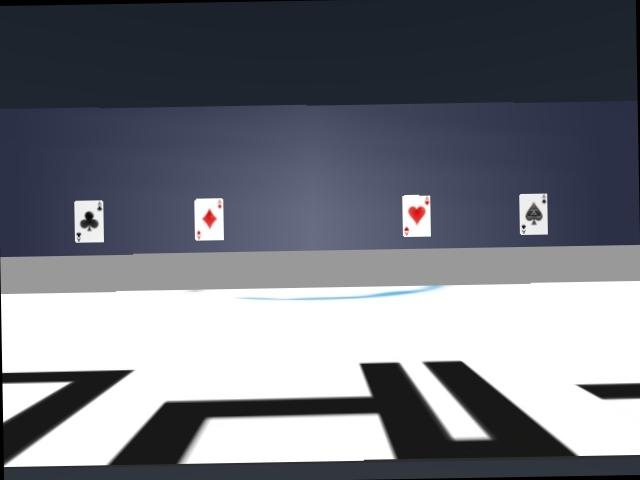club: (73, 199, 105, 242)
diamond: (194, 198, 223, 240)
heart: (402, 195, 430, 236)
spade: (519, 194, 548, 234)
